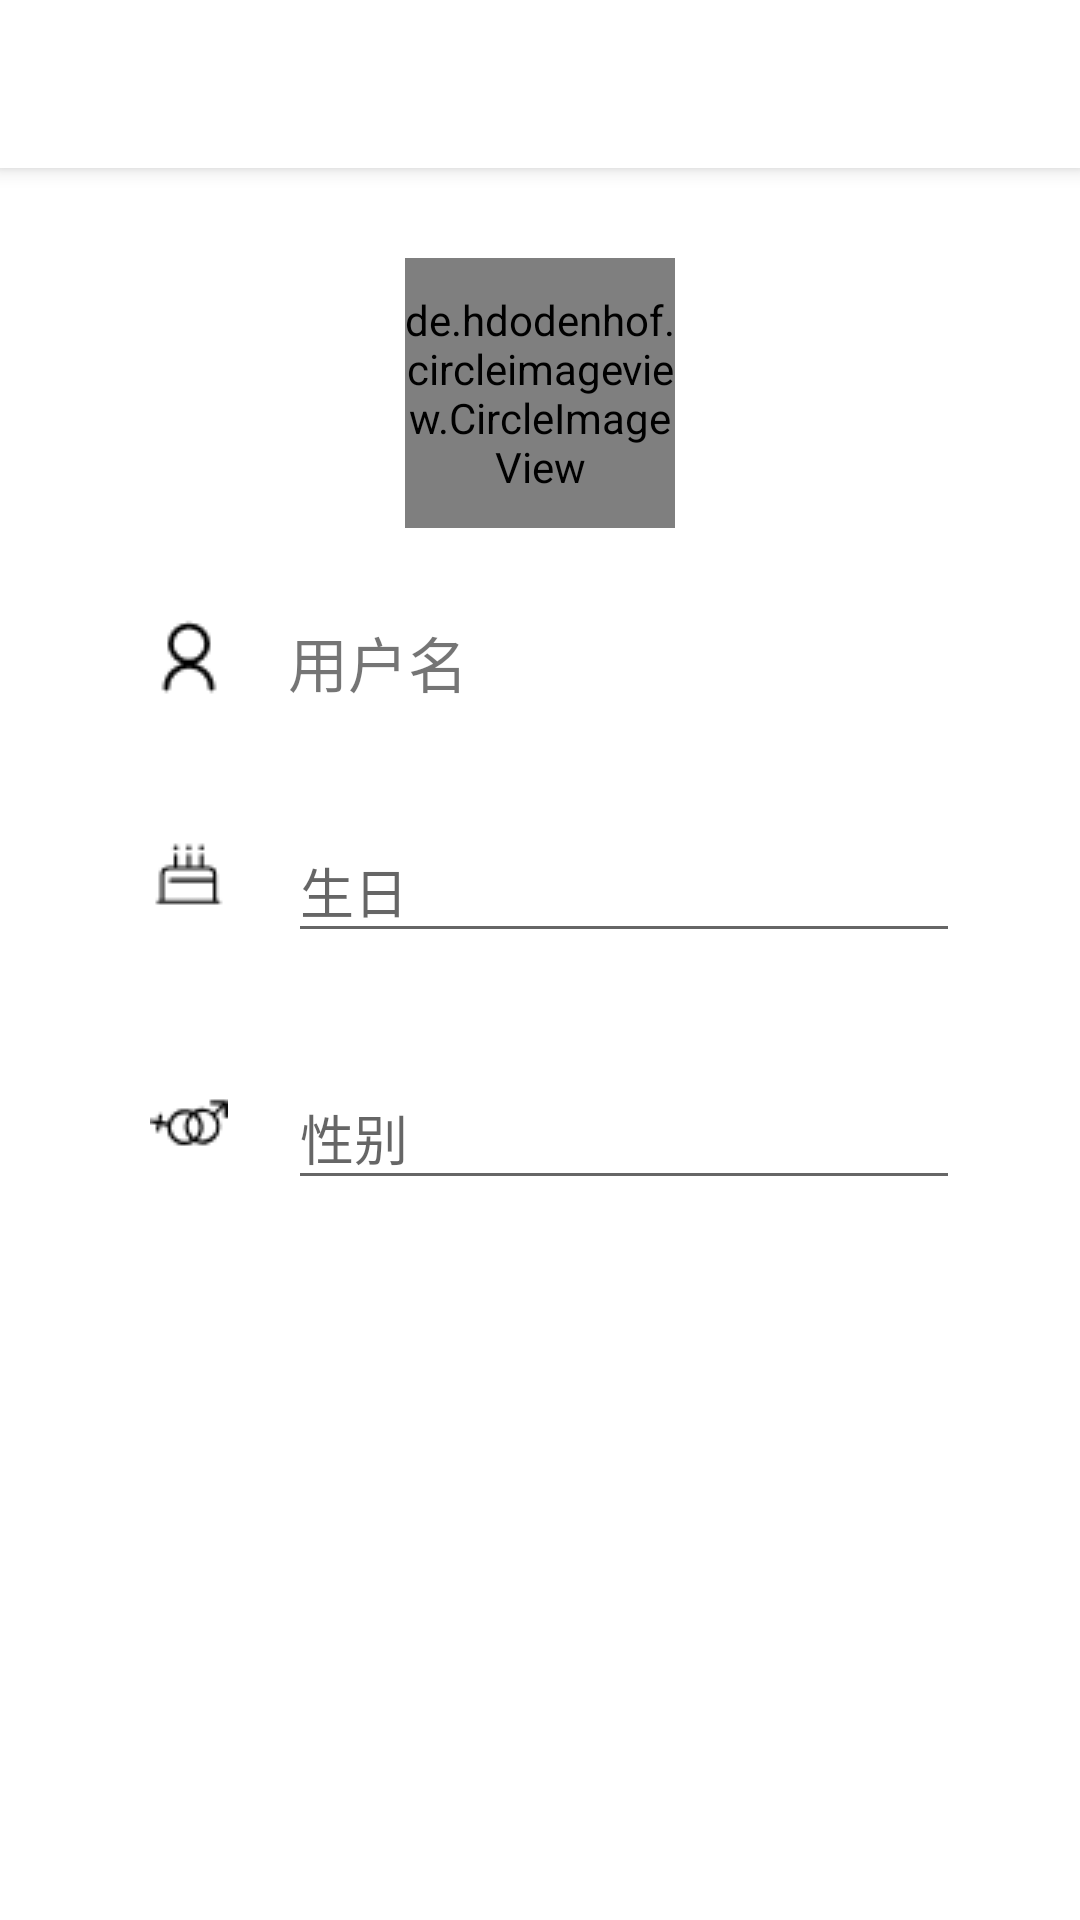

Point at icon controls on the screen. Image size 1080px x 1920px, points as [x,y].
birthday edit: [188,874]
gender edit: [189,1122]
user edit: [189,657]
